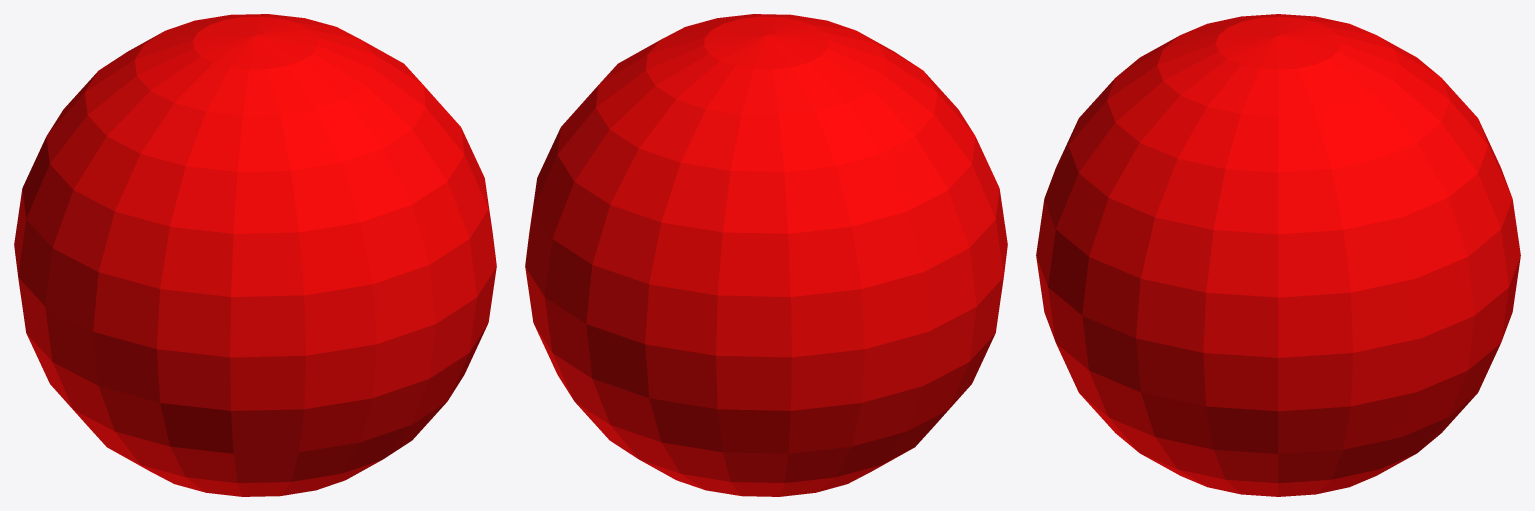
The model's file is red_sphere.obj.
3 views of the same model, side by side, from view 1: azimuth 30°, elevation 25°; view 2: azimuth 150°, elevation 25°; view 3: azimuth 270°, elevation 25° (orthographic).
Parts seen in each view (by area): view 1: Sphere; view 2: Sphere; view 3: Sphere.
Boxes of the visible parts, x1,y1,x2,y2 form: Sphere: (14,14,496,496); Sphere: (525,14,1007,496); Sphere: (1036,14,1520,496).
Bounding box in the file's own units: 2 × 2 × 2.
